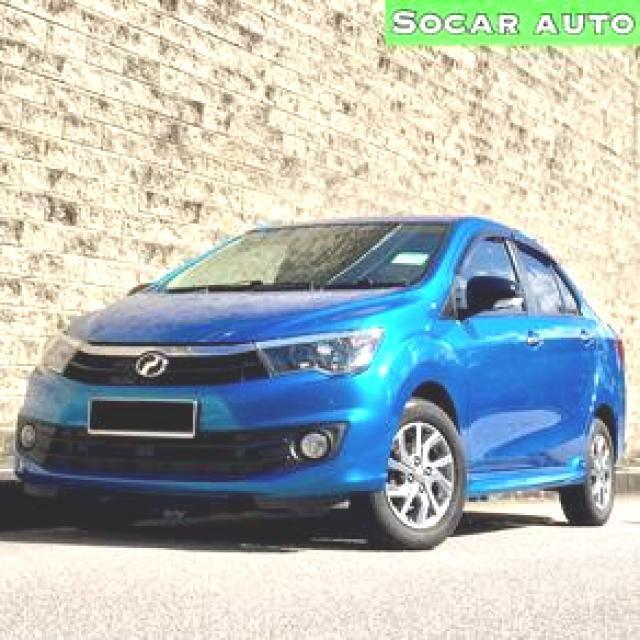PeroduaBezza: (13, 212, 626, 549)
